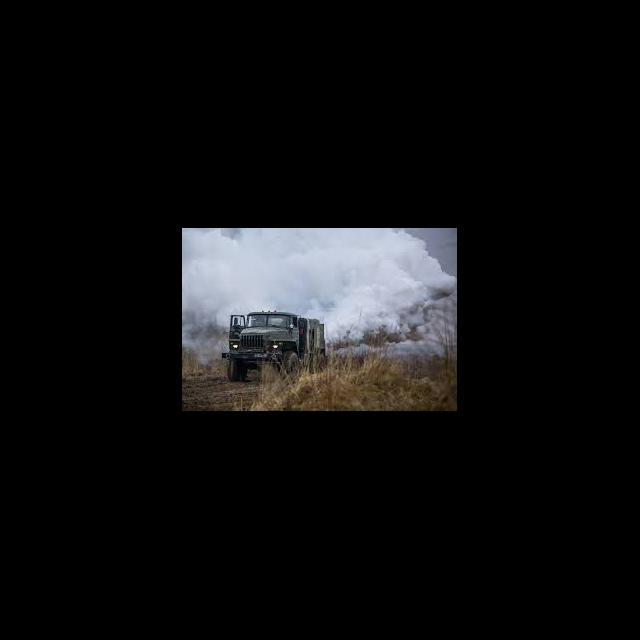Smoke: (182, 230, 456, 360)
